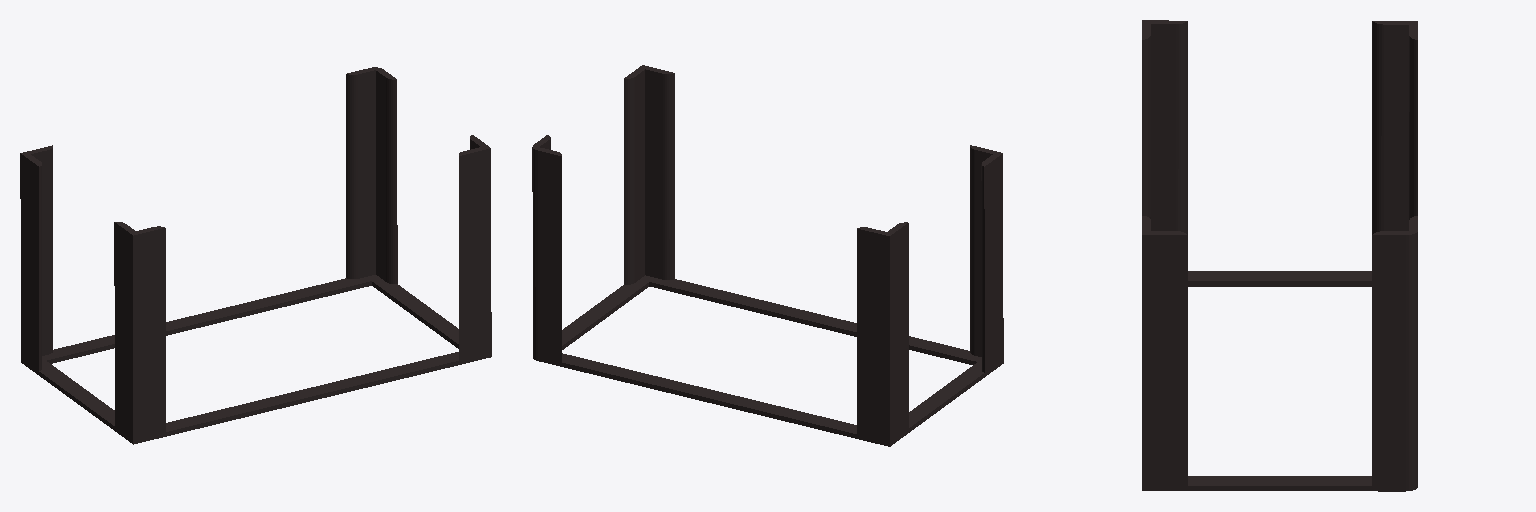
URDF robot description (walls):
<?xml version="1.0" encoding="utf-8"?>
<robot name="walls">
  <link name="base_link">
    <contact>
      <lateral_friction value="0.5"/>
      <rolling_friction value="0.0"/>
      <contact_cfm value="0.0"/>
      <contact_erp value="1.0"/>
    </contact>
    <inertial>
      <origin rpy="0 0 0" xyz="0 0 0"/>
      <mass value="0"/>
      <inertia ixx="0" ixy="0" ixz="0" iyy="0" iyz="0" izz="0"/>
    </inertial>
    <visual>
      <origin rpy="1.57 0 0" xyz="0 0 0"/>
      <geometry>
        <mesh filename="models/meshes/lift/lift_base.obj" scale="10 10 10"/>
      </geometry>
      <material name="tray_material">
        <color rgba="0.23 0.2 0.2 1"/>
      </material>
    </visual>
  </link>
</robot>

--- Facts derived from the render (not from the file) ---
The picture shows the robot from 3 angles, left to right: view 1: azimuth 30°, elevation 25°; view 2: azimuth 150°, elevation 25°; view 3: azimuth 270°, elevation 25°; orthographic projection.
Robot: walls — 1 links, 0 joints (none); root link base_link; default pose: all joints at 0.
Visible links, largest first — view 1: base_link; view 2: base_link; view 3: base_link.
Boxes of the visible links, bbox=[...] form: base_link: bbox=[20, 67, 491, 444]; base_link: bbox=[532, 65, 1003, 446]; base_link: bbox=[1142, 20, 1417, 491].
Size in the robot's own frame: 1.65 by 0.9007 by 0.9207 metres.
1 mesh visuals loaded from 1 distinct referenced files (1 OBJ).